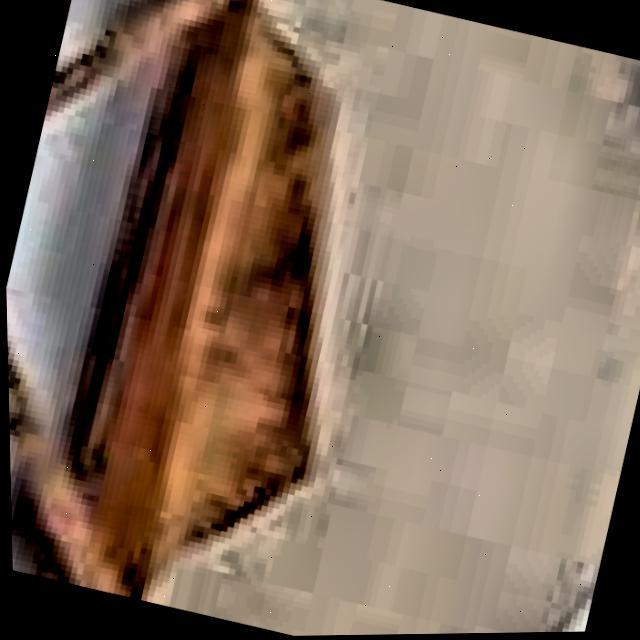paper: (5, 0, 640, 637)
